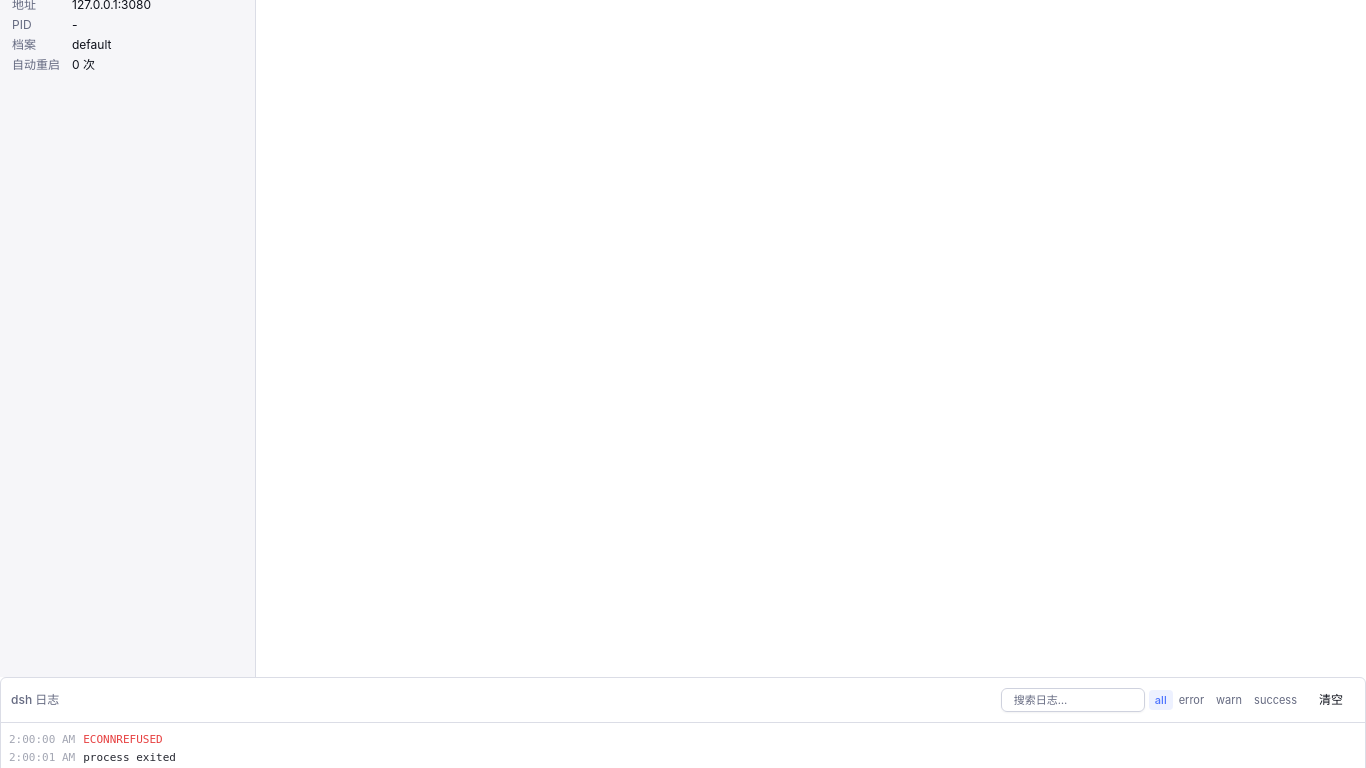
Test: scenario 3-lite: state badge, action buttons and log panel move together › stopped state: badge stops, start returns, error logs filterable
(page scrolled)
Expected: the text "process exited" is shown, x1=83 y1=751 x2=176 y2=764
Click the button "error" at (1191, 700), box x1=1173 y1=690 x2=1210 y2=710
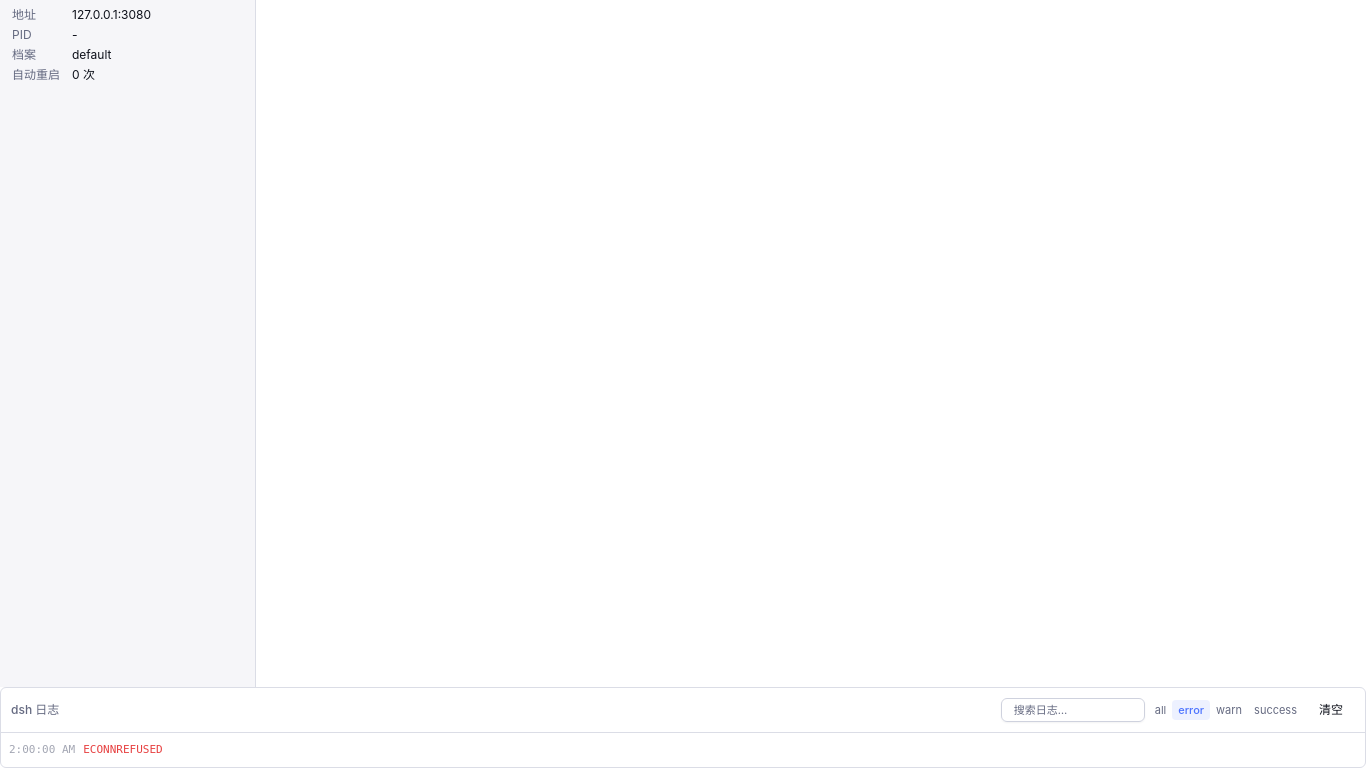
Expected: the text "ECONNREFUSED" is shown, x1=83 y1=743 x2=163 y2=756
Expected: the text "process exited" is gone
